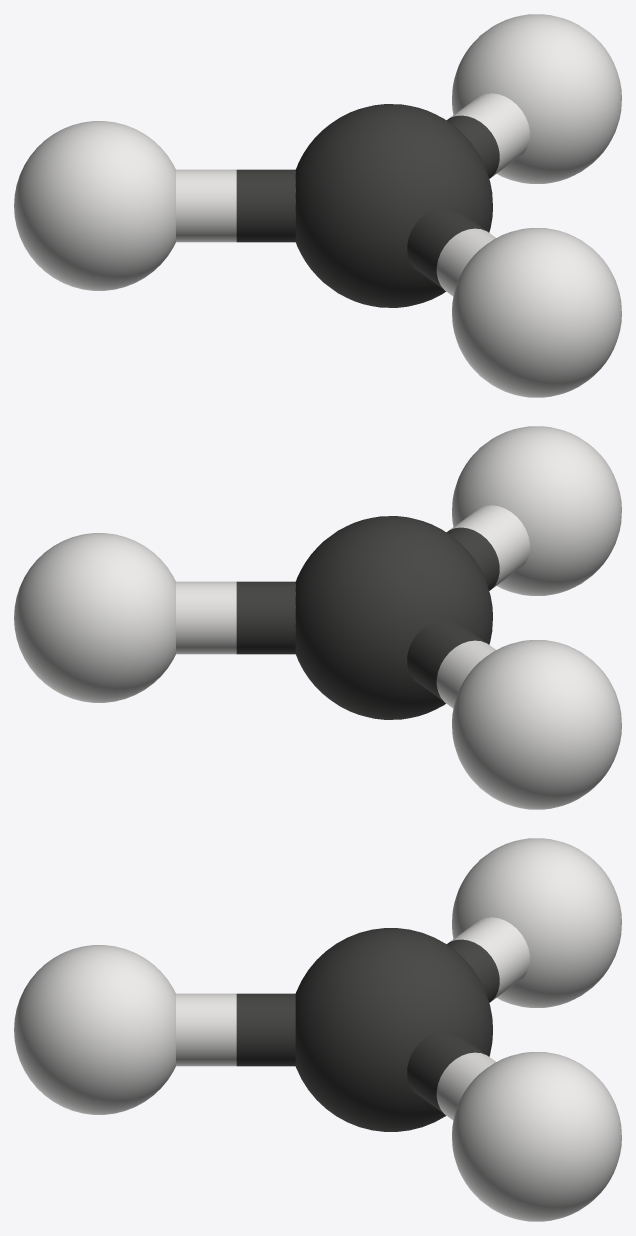
3 renders of one model, top to bottom at view 1: azimuth 30°, elevation 25°; view 2: azimuth 150°, elevation 25°; view 3: azimuth 270°, elevation 25°, orthographic.
Visible parts, largest first — view 1: D011; view 2: D011; view 3: D011.
Boxes of the visible parts, x1,y1,x2,y2 form: D011: [14, 14, 621, 397]; D011: [14, 426, 621, 809]; D011: [14, 838, 621, 1221].
Size of the model in its own units: 21.4 by 6.45 by 19.26.
